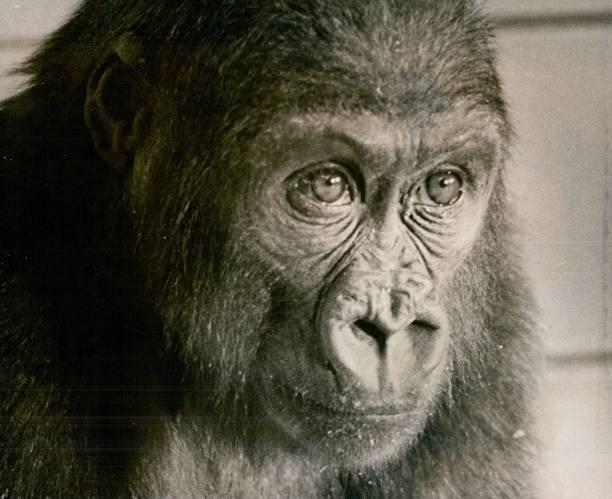gorille_Autres: (6, 5, 579, 496)
